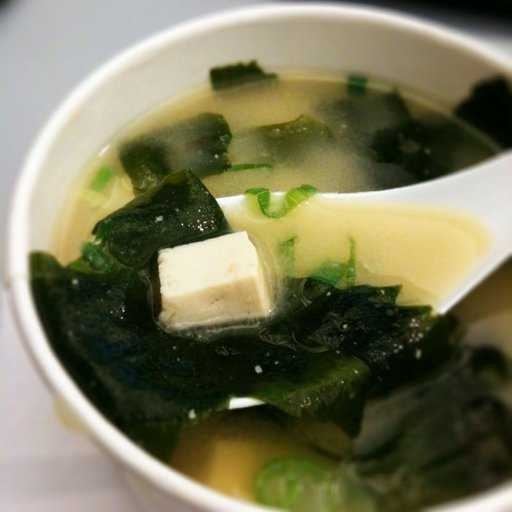soup: (32, 38, 510, 504)
